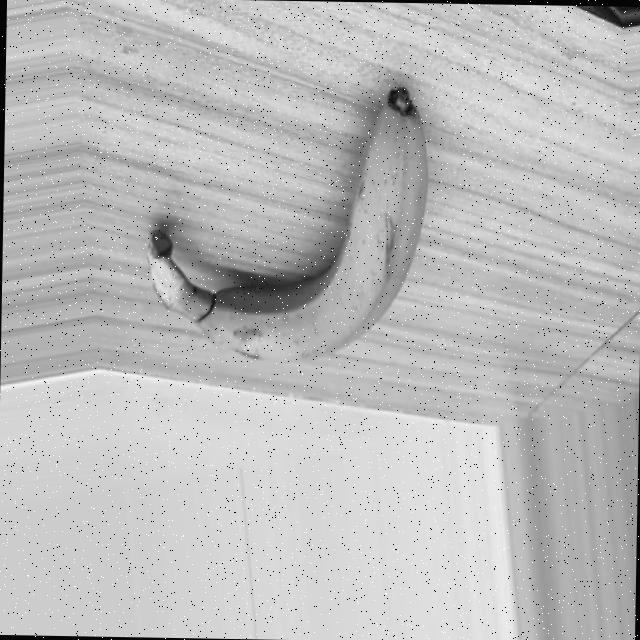Unripe: (142, 81, 429, 364)
